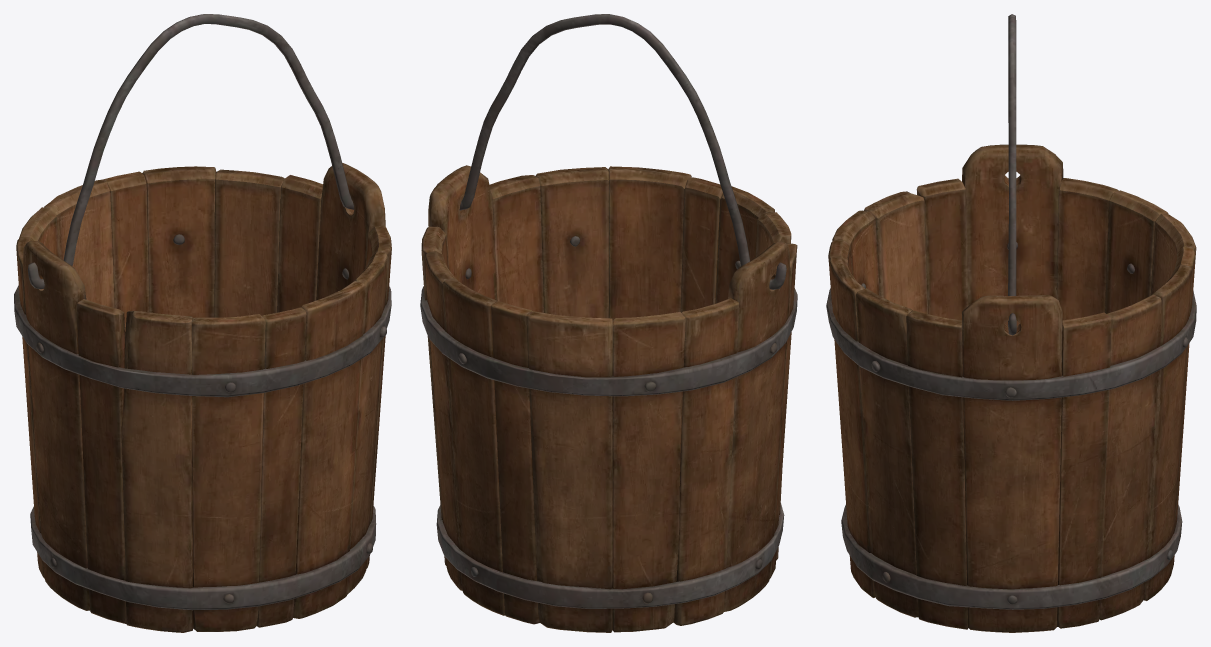
The model's file is wooden_bucket_01.glb.
The picture shows the model from 3 angles, left to right: view 1: azimuth 30°, elevation 25°; view 2: azimuth 150°, elevation 25°; view 3: azimuth 270°, elevation 25°; orthographic projection.
Visible parts, largest first — view 1: wooden_bucket_01, wooden_bucket_01_handle; view 2: wooden_bucket_01, wooden_bucket_01_handle; view 3: wooden_bucket_01, wooden_bucket_01_handle.
Part boxes in pixels (box(x1,y1,x2,y2)): wooden_bucket_01: box(14, 163, 391, 632); wooden_bucket_01_handle: box(27, 14, 354, 289); wooden_bucket_01: box(420, 165, 797, 632); wooden_bucket_01_handle: box(437, 14, 786, 289); wooden_bucket_01: box(826, 144, 1196, 632); wooden_bucket_01_handle: box(1008, 14, 1016, 335).
Size of the model in its own units: 0.367 by 0.5499 by 0.3422.
1 material, 1 textured.
